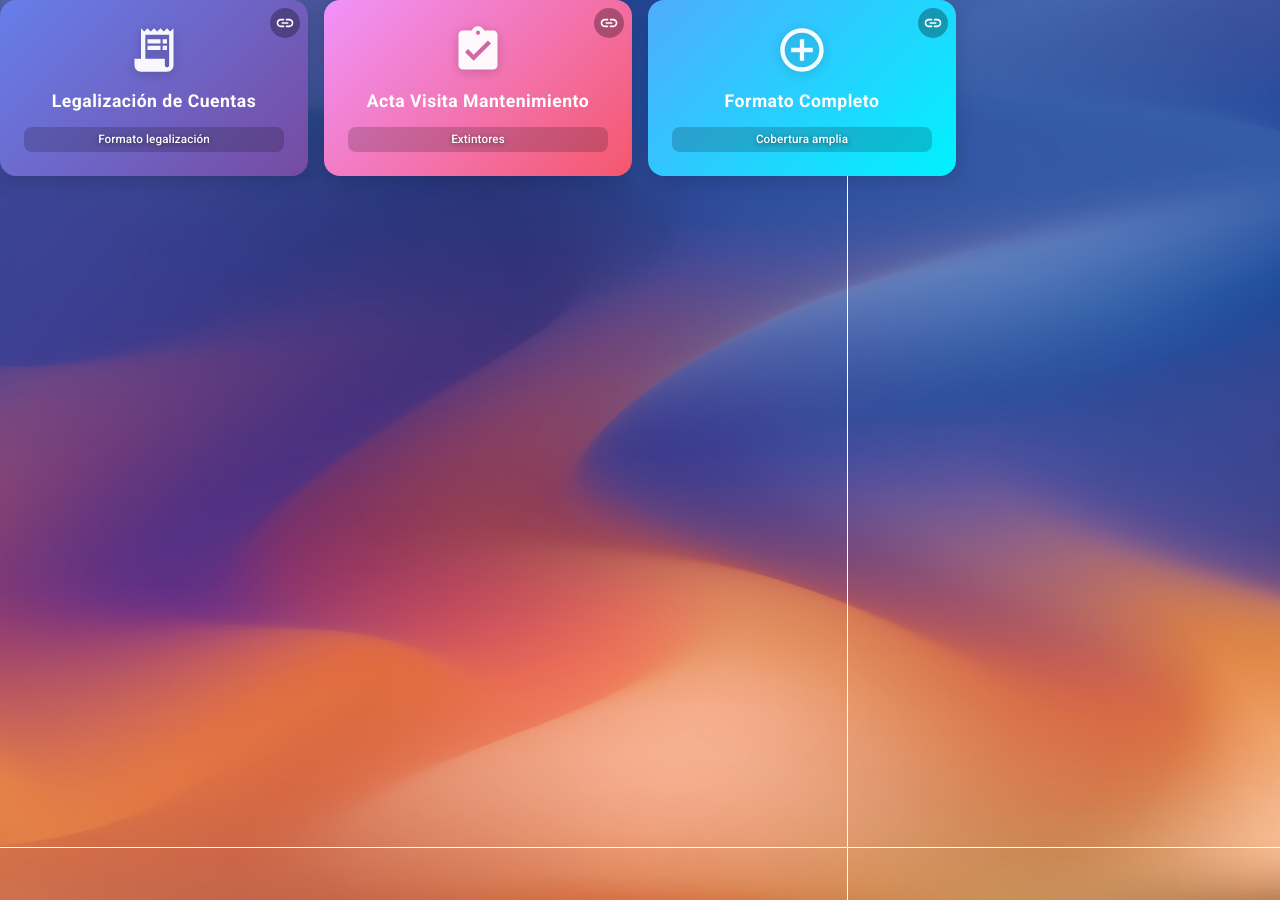
Test case: FormatSelector › adds and removes dynamic-group items
This screenshot has width=1280, height=900.
What coordinates should you click on to do the following:
click the heading "Legalización de Cuentas"
I would click on:
 (154, 101)
Its box is [52,91,256,111].
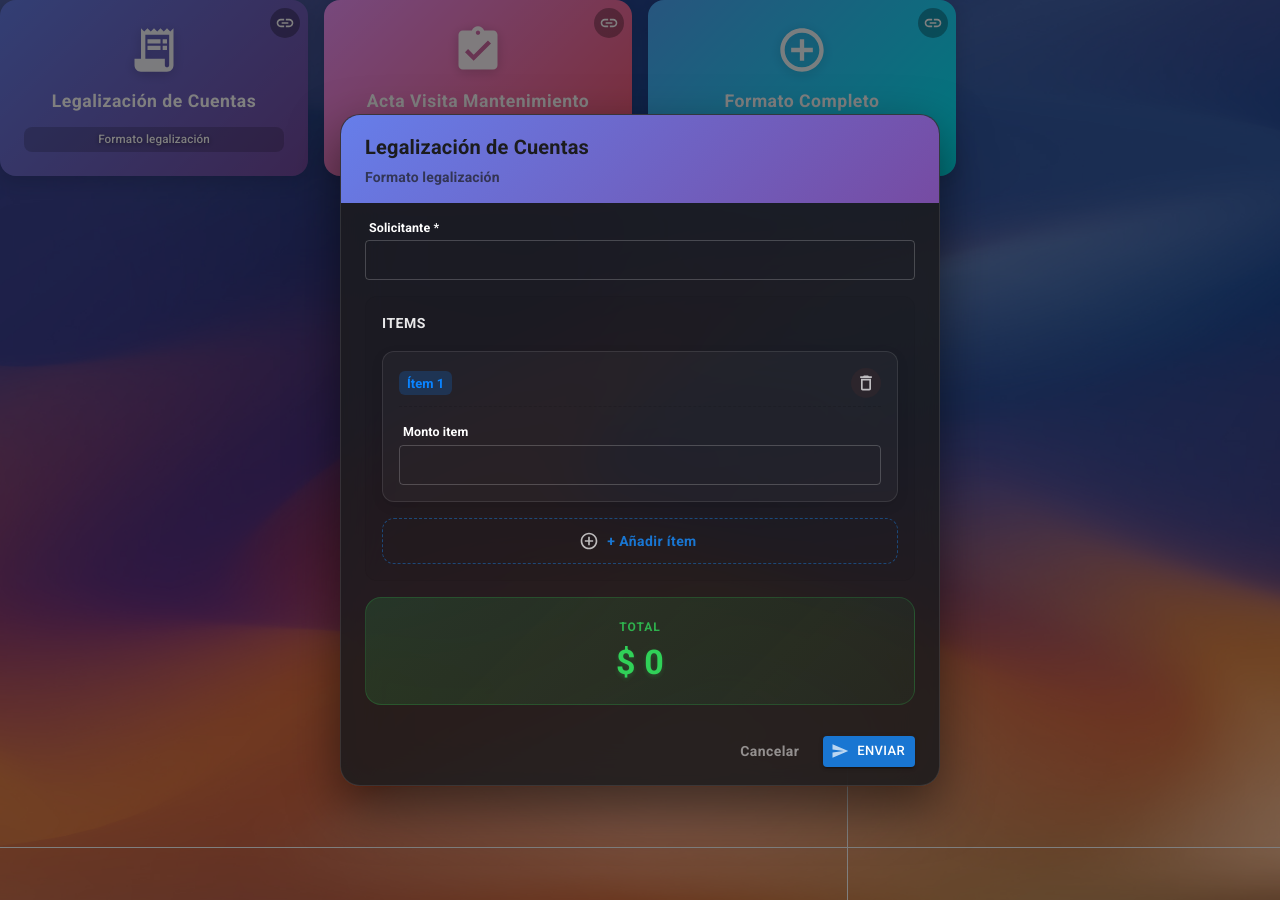
Now the text "Ítem 1" is shown, box [407,376,444,391]
What coordinates should you click on to do the following:
click the button "+ Añadir ítem"
I would click on:
 (640, 541)
Its box is [382,518,898,564].
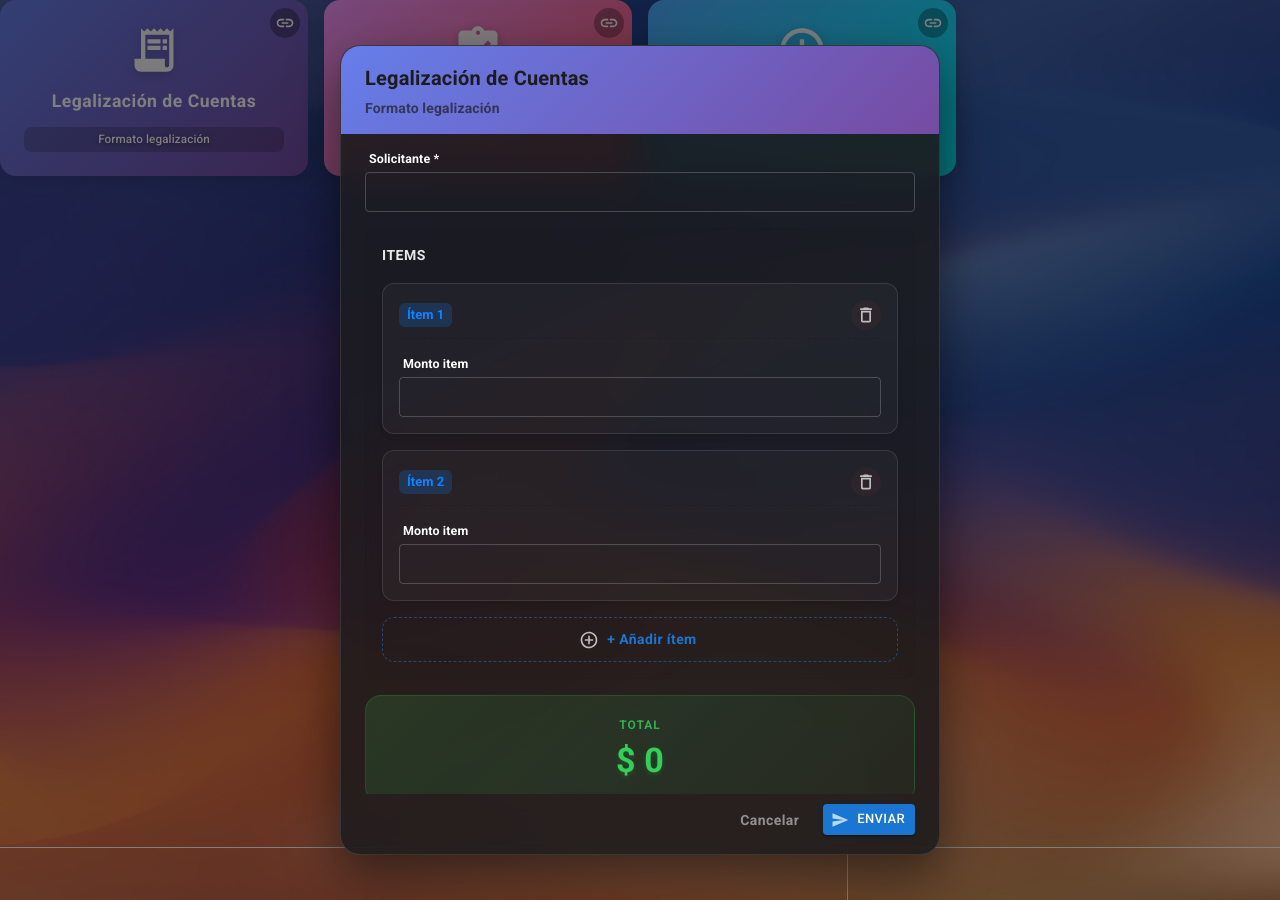
Now the text "Ítem 2" is shown, box [407,474,444,489]
What coordinates should you click on to do the following:
click the button without text in the row of "Ítem 1"
I would click on:
 (866, 315)
Its box is [851,300,881,330].
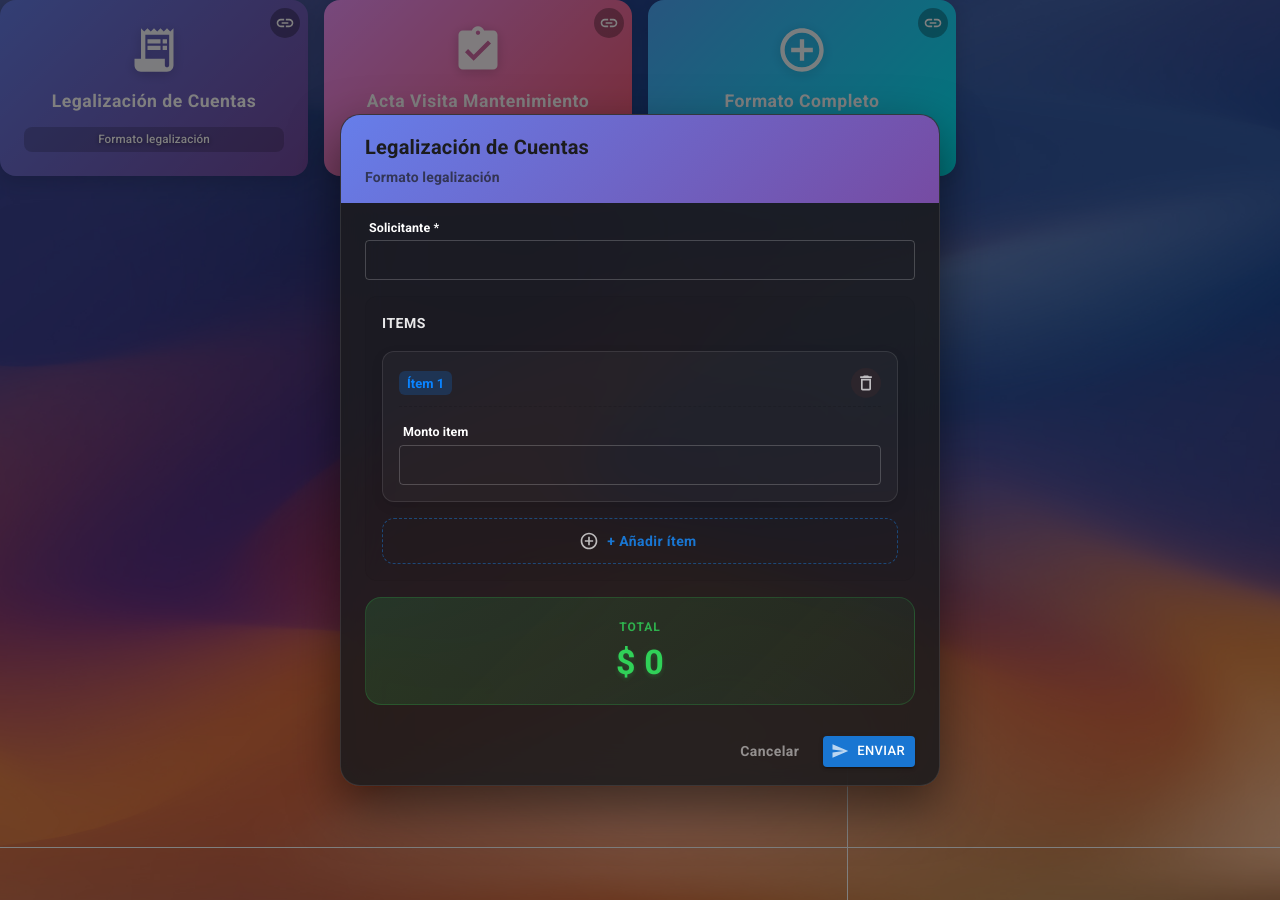
Now the text "Ítem 2" is gone
